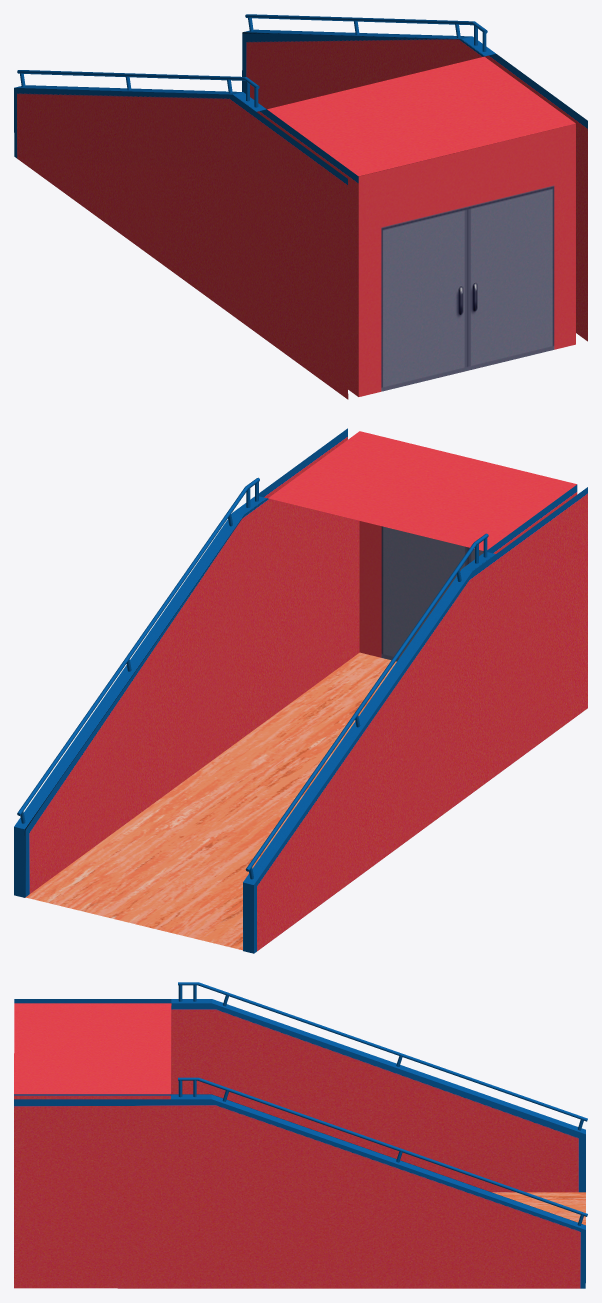
Rendered from Exit_3_Ufa.FBX.
The picture shows the model from 3 angles, top to bottom: view 1: azimuth 30°, elevation 25°; view 2: azimuth 150°, elevation 25°; view 3: azimuth 270°, elevation 25°; orthographic projection. The views are drawn at different scales.
Parts seen in each view (by area): view 1: Exit_3_Ufa; view 2: Exit_3_Ufa; view 3: Exit_3_Ufa.
Boxes of the visible parts, x1,y1,x2,y2 form: Exit_3_Ufa: [14, 14, 587, 399]; Exit_3_Ufa: [14, 428, 587, 953]; Exit_3_Ufa: [14, 982, 587, 1288].
Bounding box in the file's own units: 2.72 × 2.64 × 6.58.
